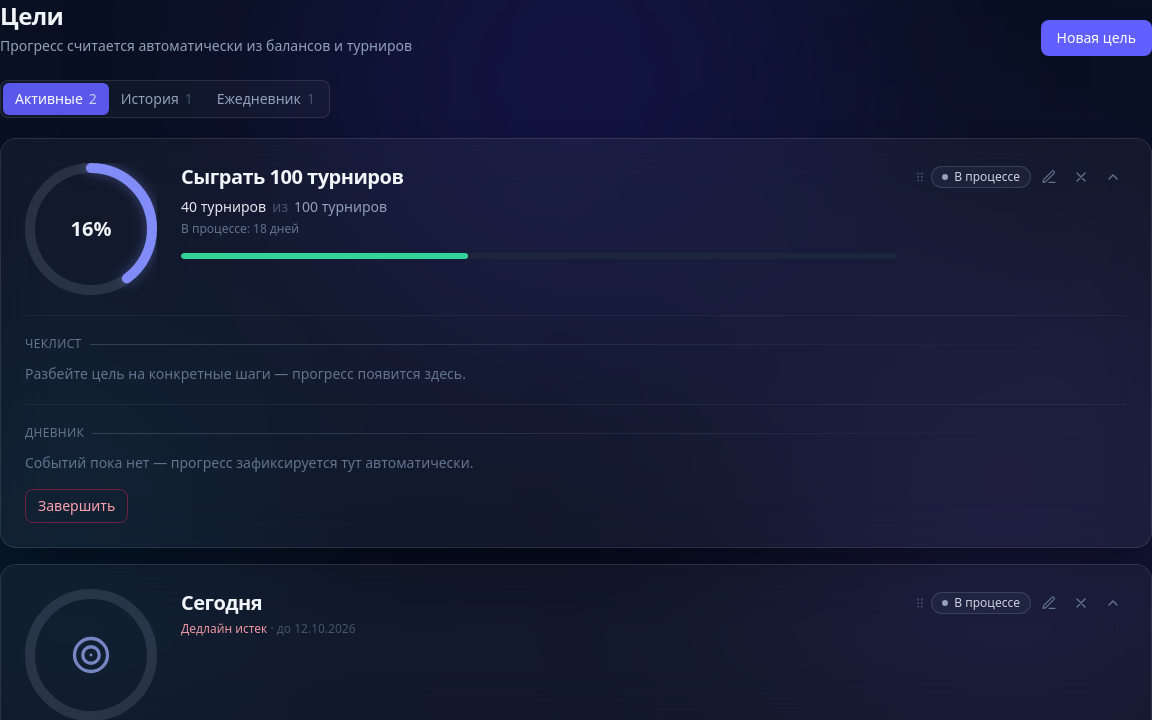
Test case: GoalsPage daily tab › loads only finished daily goals of the month
The width and height of the screenshot is (1152, 720).
Click the tab "Ежедневник1" at (266, 99), box [205,83,327,115]
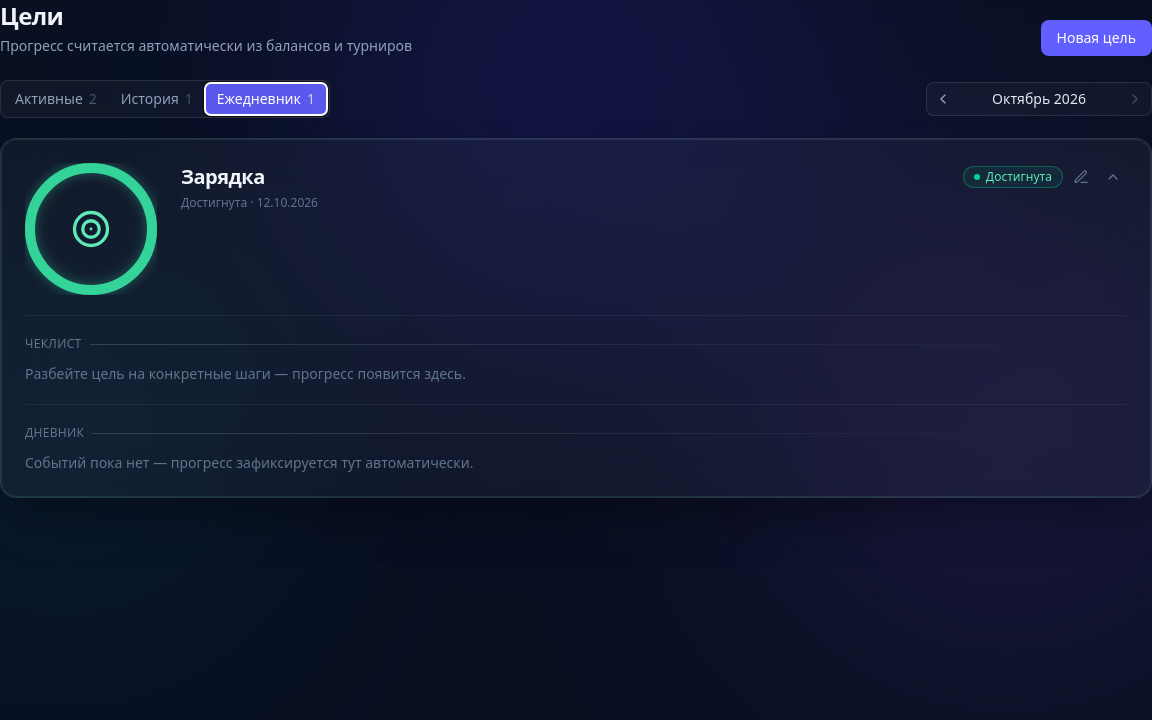
expect the heading "Зарядка" is shown: met, box [181,163,265,190]
